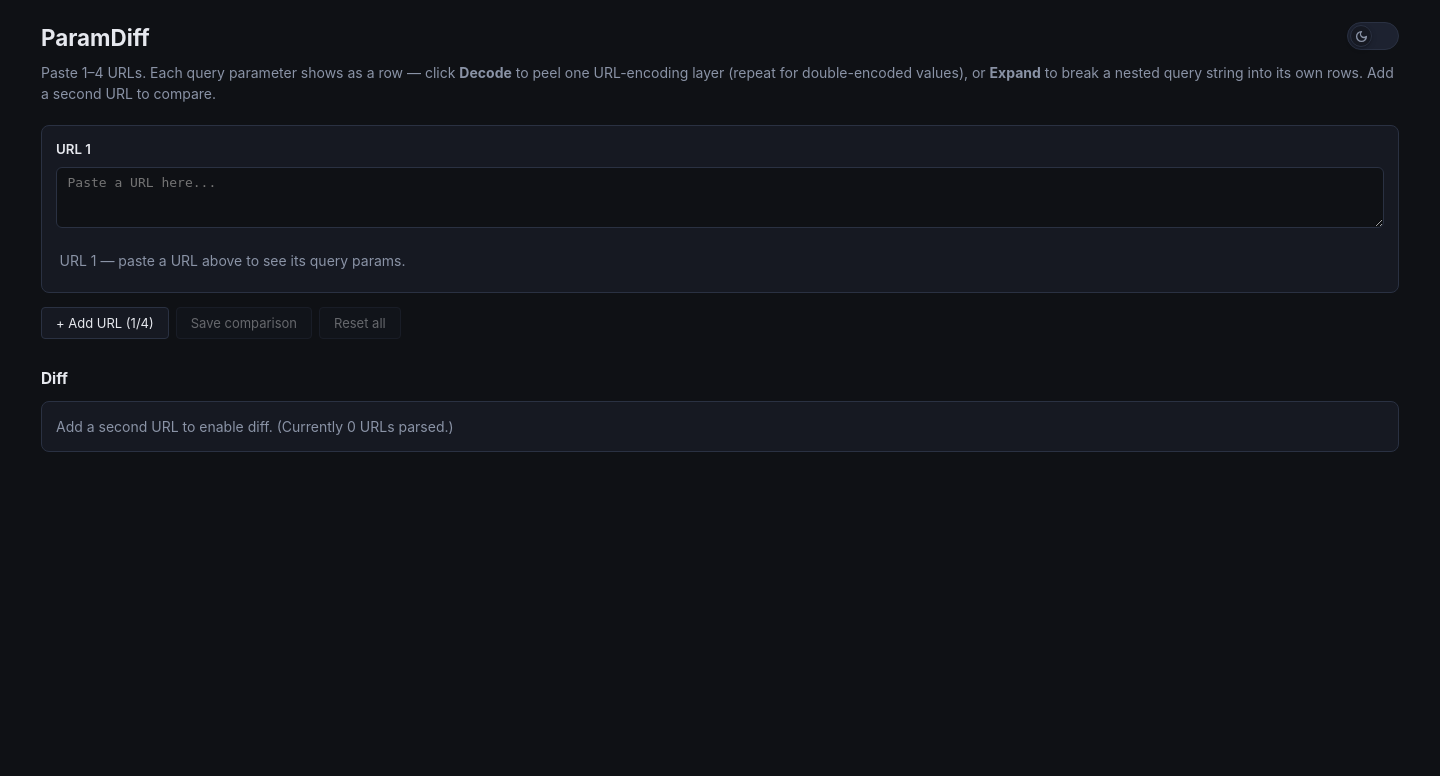
Test case: App — URL slot management › removes a non-first slot and shifts label numbering for surviving slots
This screenshot has width=1440, height=776.
Click the button "+ Add URL (1/4)" at (105, 323), box top-left (41, 307), bottom-right (169, 339)
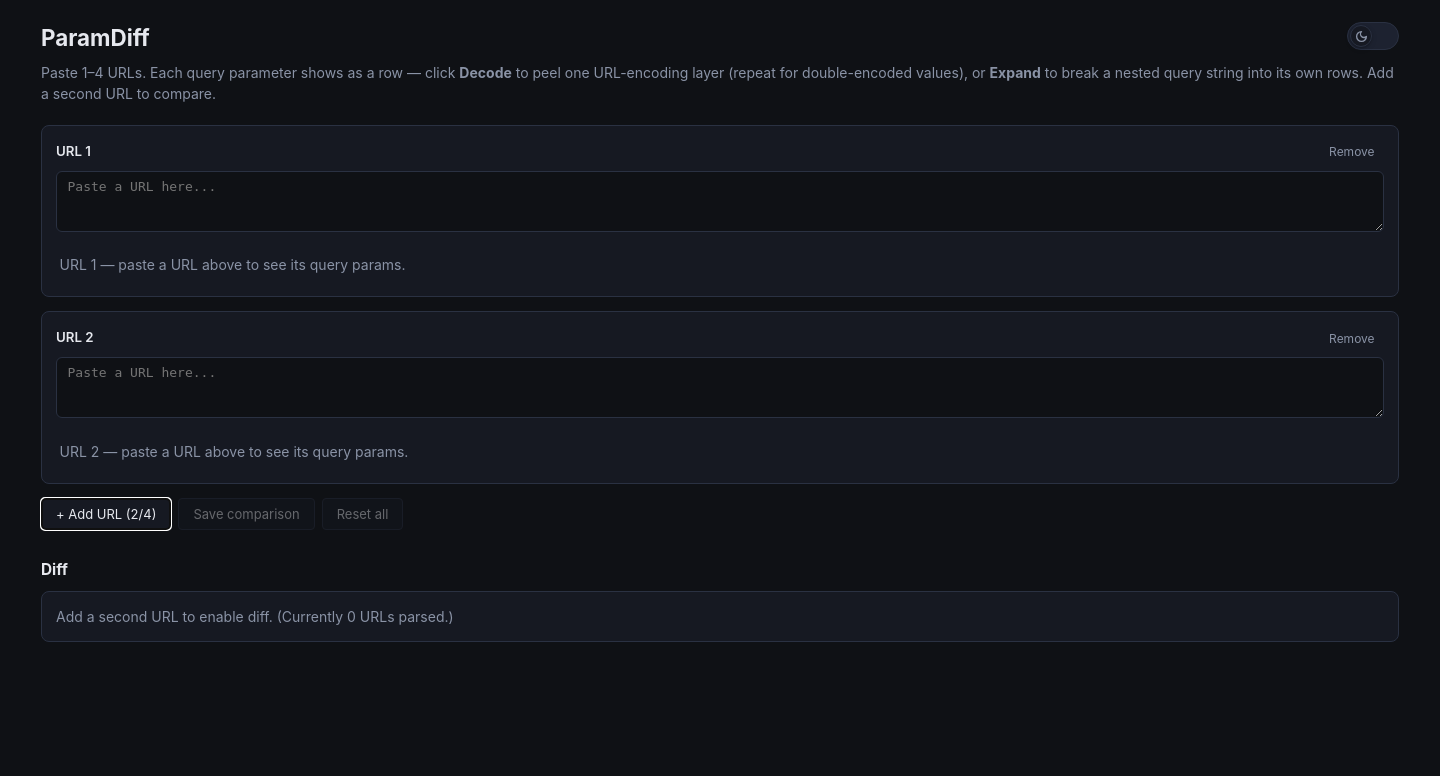
Click the button "+ Add URL (2/4)" at (106, 514), box top-left (41, 498), bottom-right (171, 530)
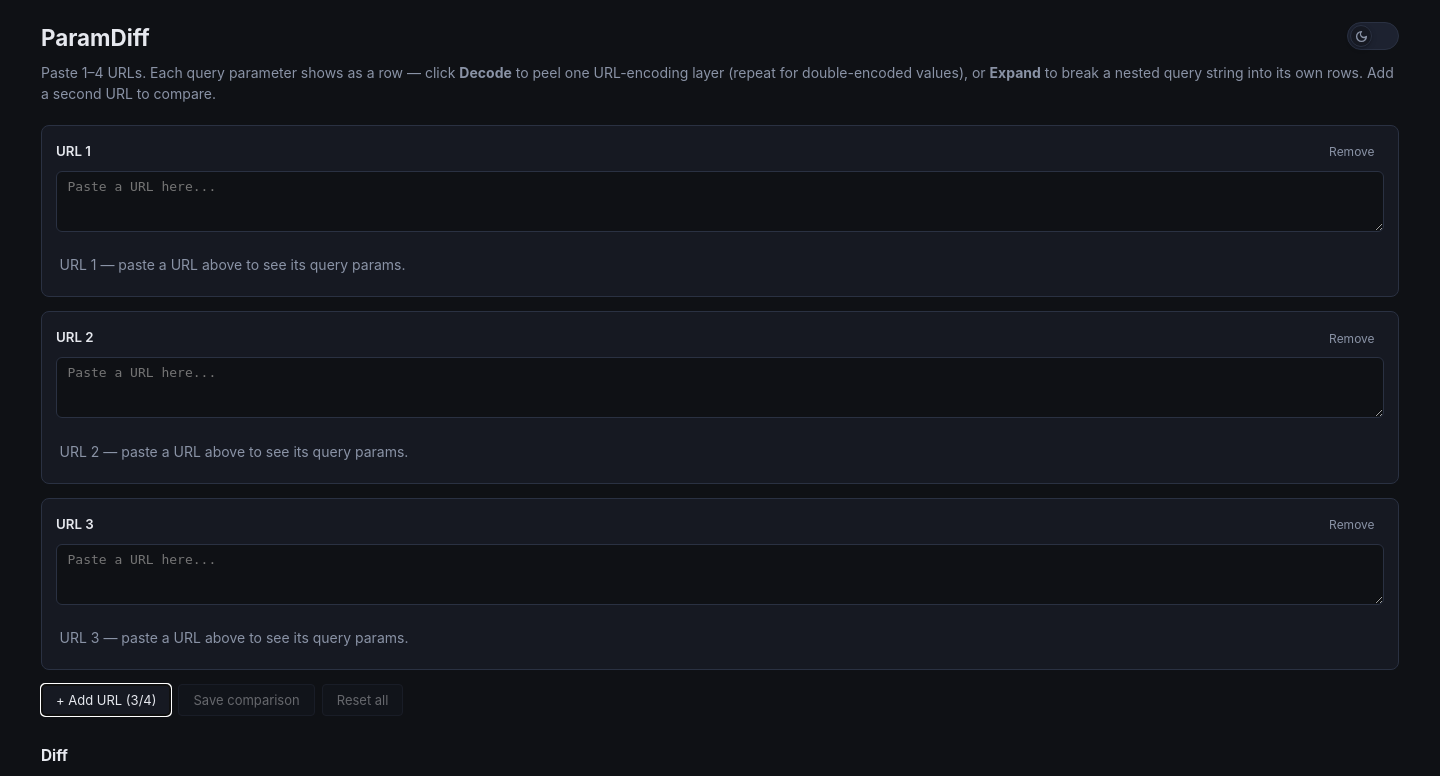
Type something distinct into slot 2 so we can verify which slot was removed.
Type "https://b.example/?x=1" into the text box labelled "URL 2" at (720, 388), box top-left (56, 357), bottom-right (1384, 418)
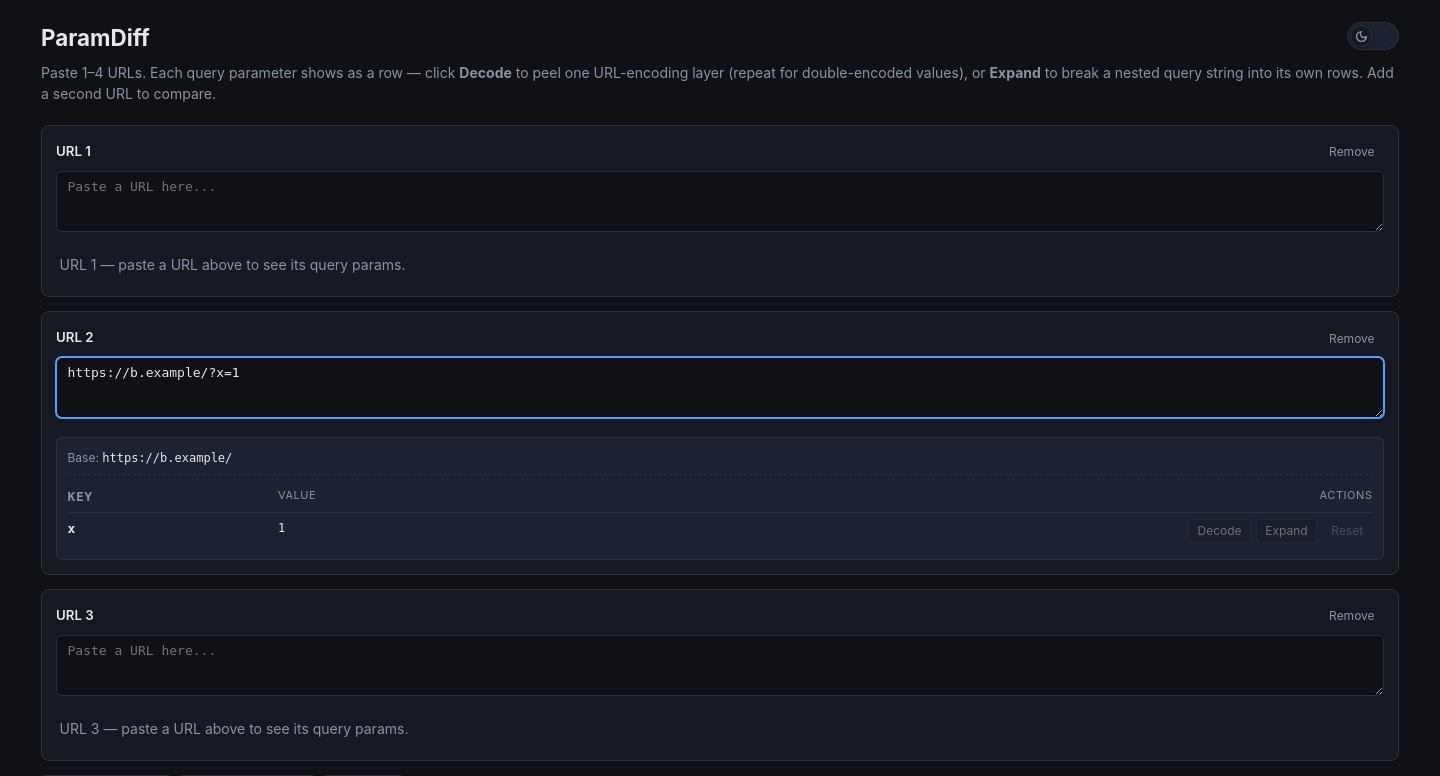
Check: the number of buttons "Remove" is 3
Click the first Remove button (slot index 0).
Click the 1st button "Remove" at (1352, 152), box top-left (1320, 140), bottom-right (1384, 164)
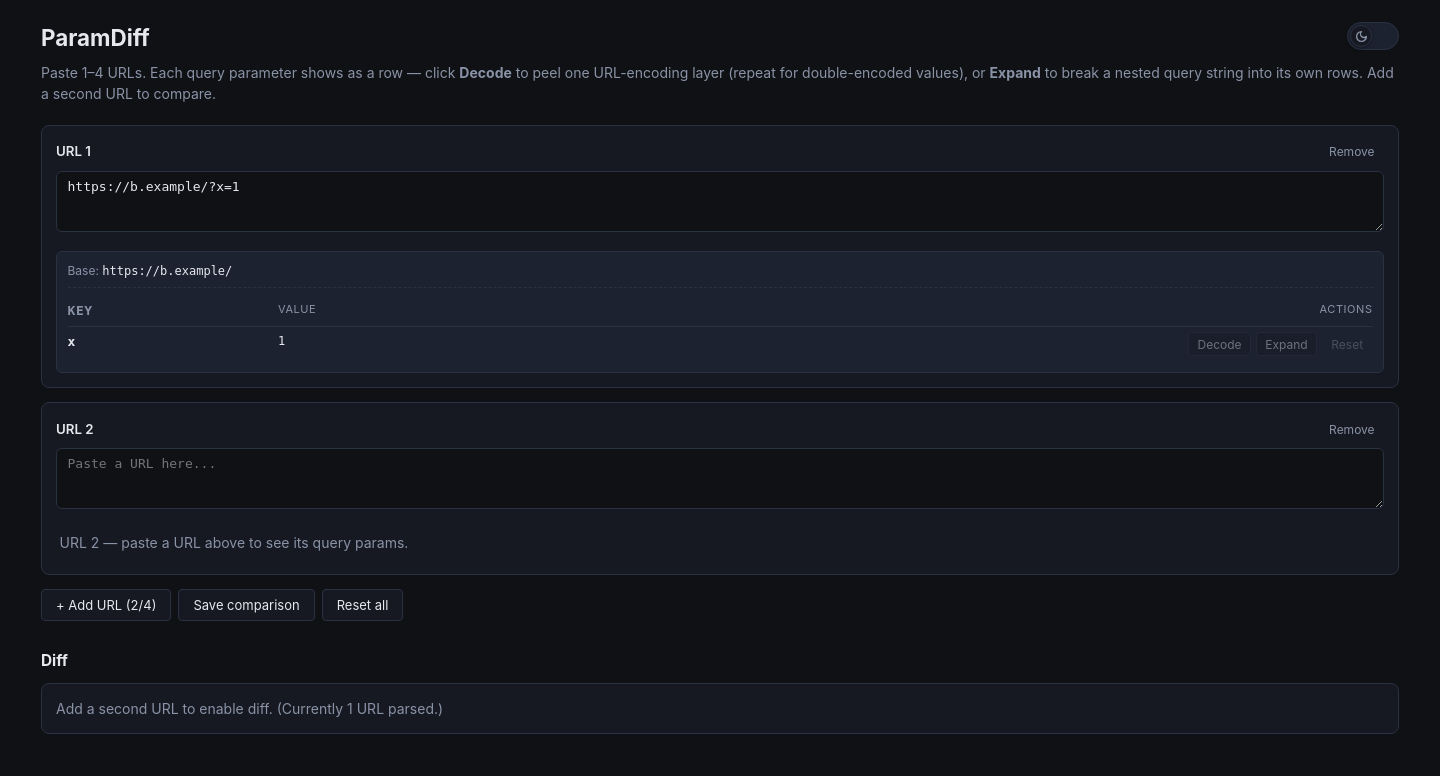
Check: the number of text boxes is 2, box top-left (56, 171), bottom-right (1384, 232); top-left (56, 448), bottom-right (1384, 510)
